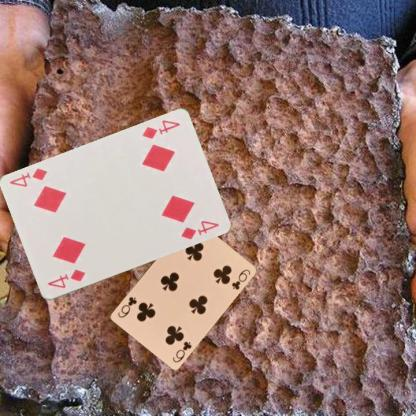4d: (140, 117, 182, 141), (44, 267, 86, 290)
6c: (170, 338, 193, 364)
